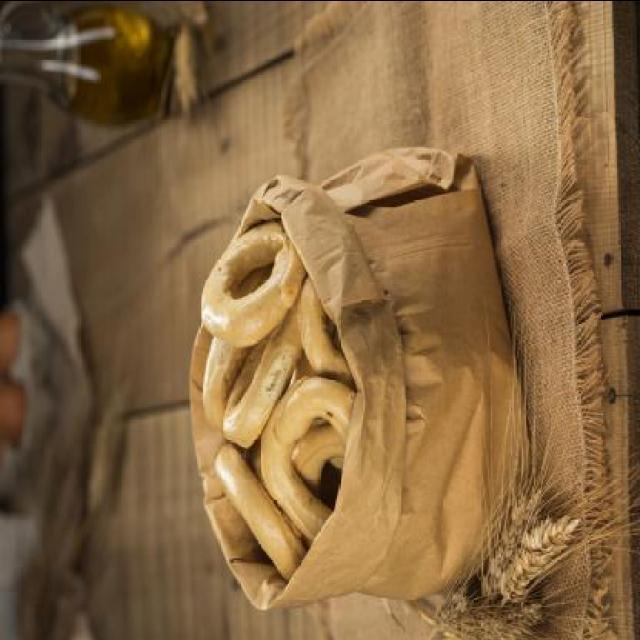Taralli: (200, 215, 344, 588)
